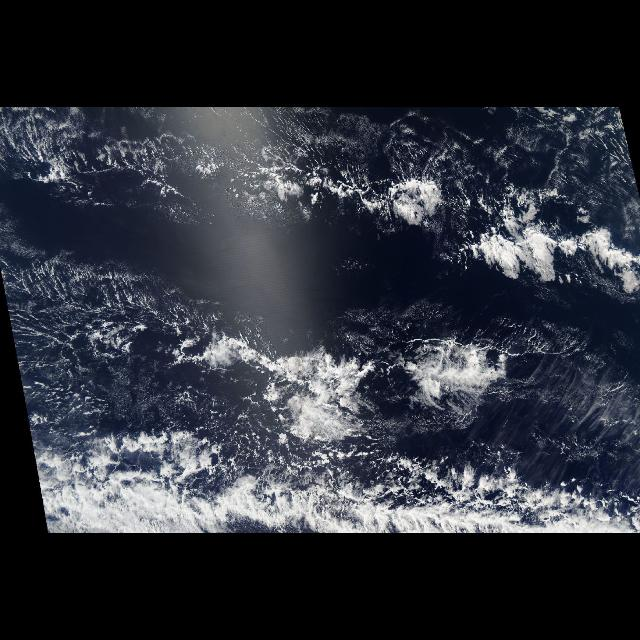Fish: (61, 117, 640, 533)
